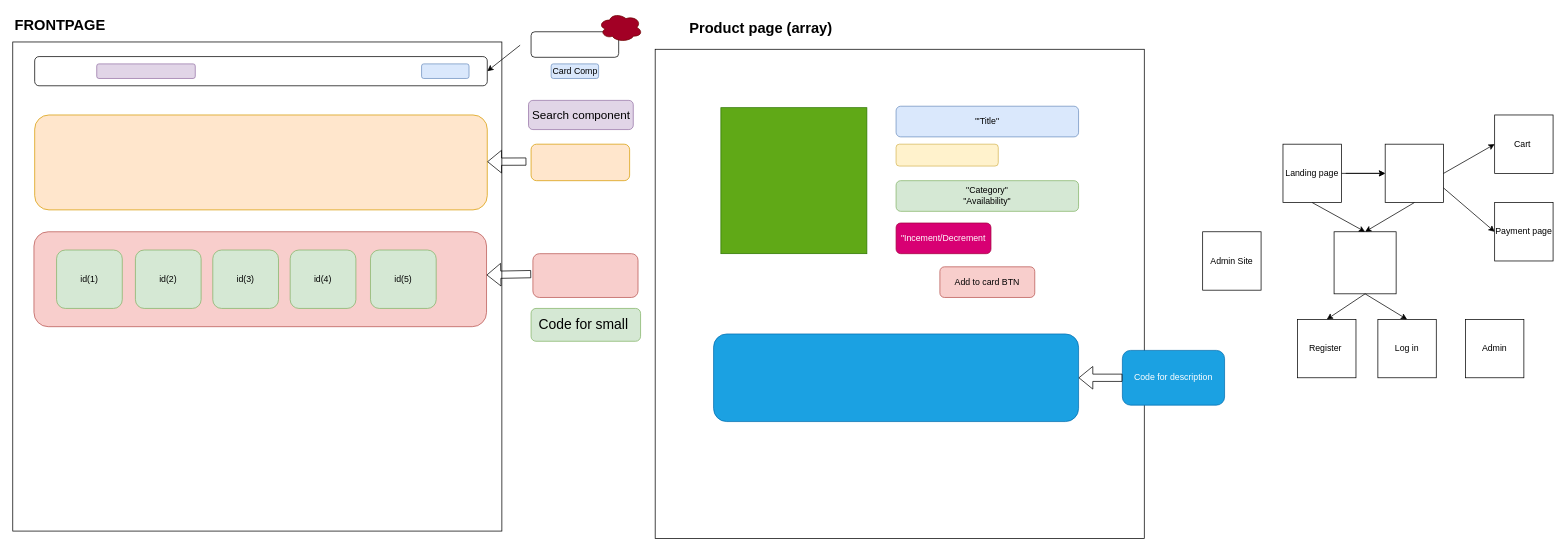
Image size: 1566x551. Some labels were removed from this diagram. The shapes that lost their labels are listed below. From the top down, each one's centre as x and y in pixels, then its label:
point 574,44: Nav bar
point 620,27: Layout
point 580,162: Hero code
point 946,154: "Price"
point 1414,173: Main Product Page
point 793,180: "picture"
point 585,275: Products cards code
point 1364,262: Customer Log in
point 896,377: "Description" / "Platform"
